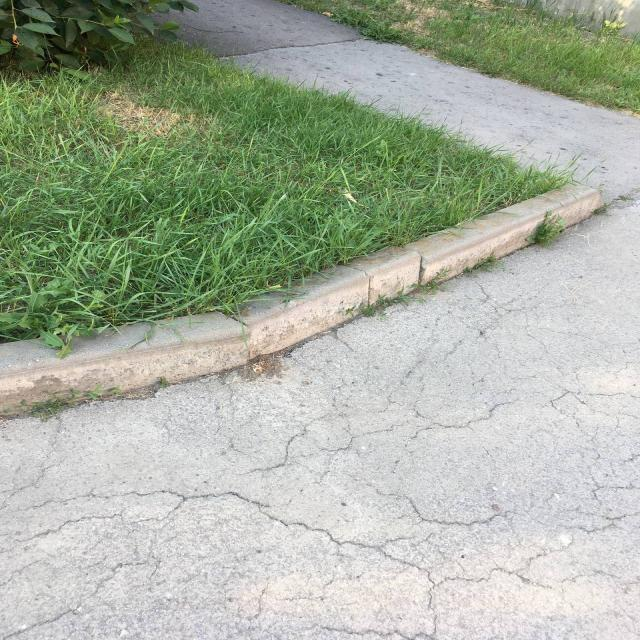bump: (236, 237, 458, 356), (0, 305, 244, 413), (442, 172, 608, 266)
